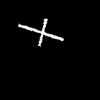single_crochet: (19, 19, 63, 45)
